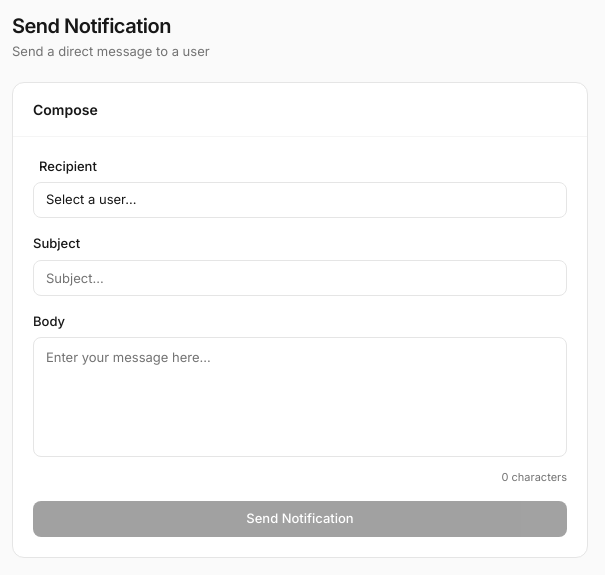
Scenario: NotificationsPage › send button is enabled when recipient AND body are filled
// Fill both
Select "Alice — alice@example.com" in the dropdown labelled "Recipient": (300, 200) [33,182,567,218]
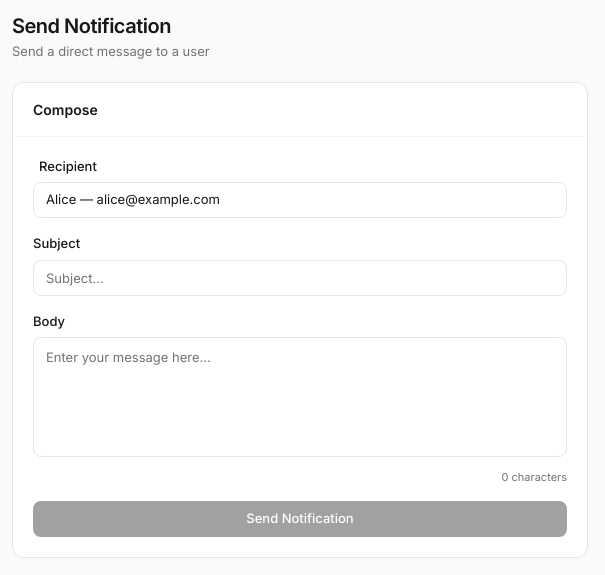
In the text box with placeholder "Enter your message here...": (300, 397) [33,337,567,456], type "Hello"
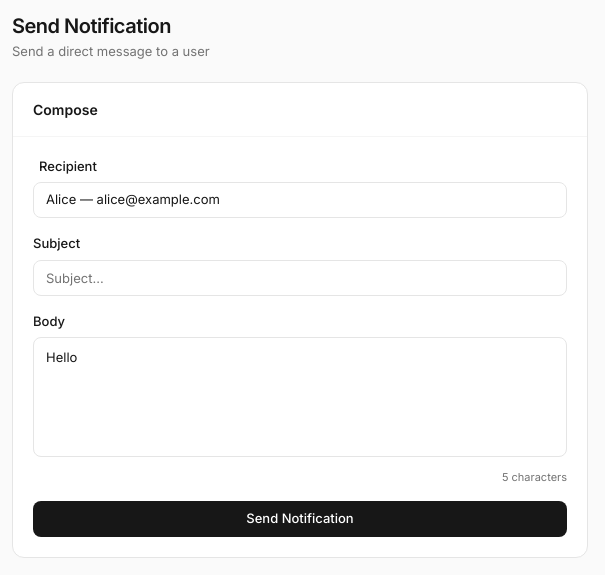
Expected: the submit button is enabled, [33,501,567,537]
